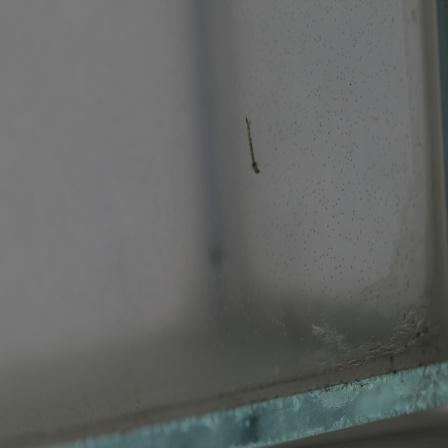Jentik-Nyamuk: (239, 112, 264, 177)
